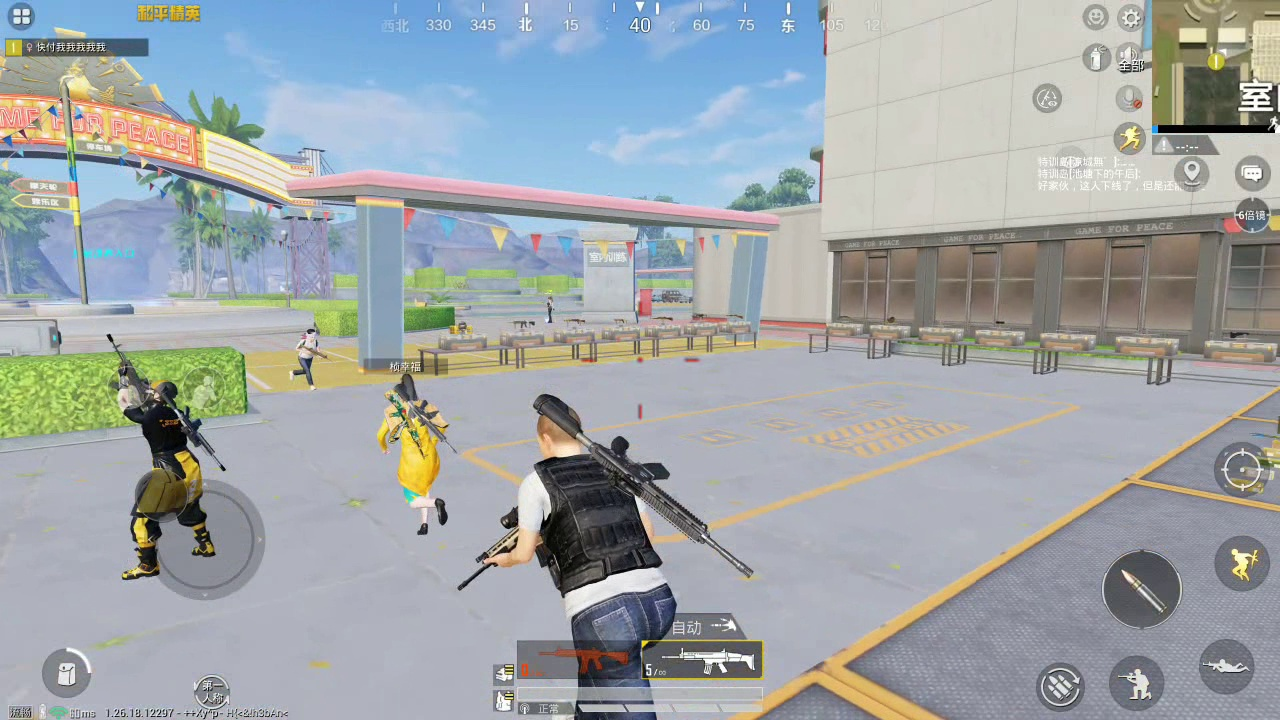enemy: (104, 347, 222, 576), (376, 372, 454, 535), (289, 328, 320, 390)
